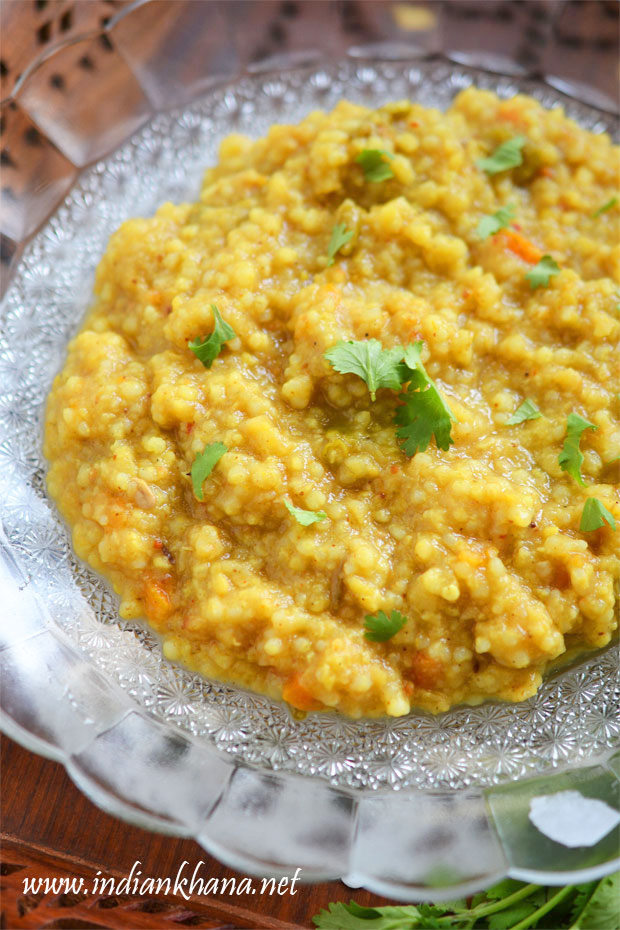rice: (75, 113, 619, 682)
